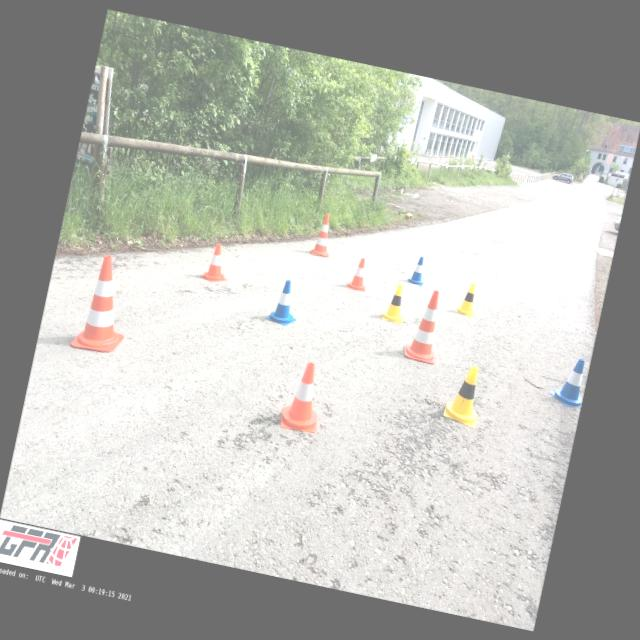blue_cone: (547, 352, 590, 408), (264, 276, 304, 328), (406, 254, 428, 286)
large_orange_cone: (71, 252, 139, 356), (402, 286, 448, 364), (310, 212, 337, 258)
orange_cone: (278, 358, 330, 434), (198, 240, 234, 284), (346, 256, 372, 292)
yellow_cone: (442, 361, 486, 427), (380, 282, 410, 324), (453, 280, 481, 318)
